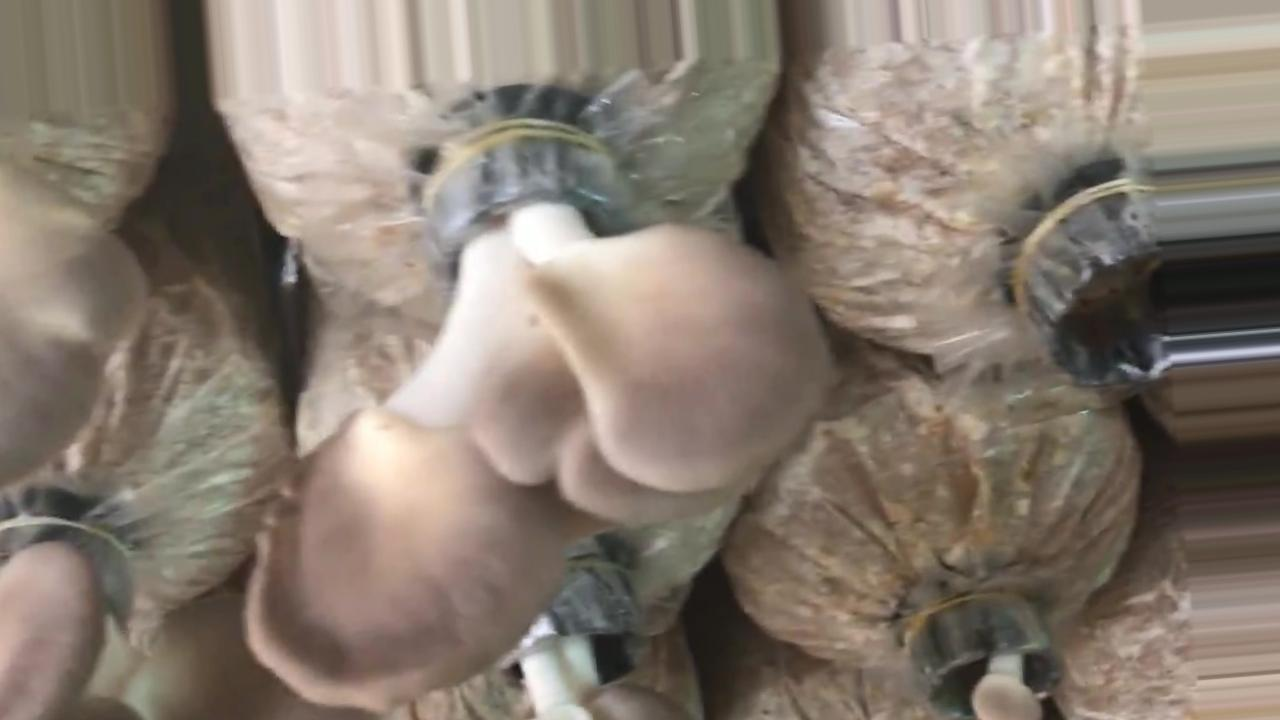nam: (246, 131, 832, 699), (1, 507, 360, 718), (1, 161, 141, 483), (914, 589, 1066, 720)
